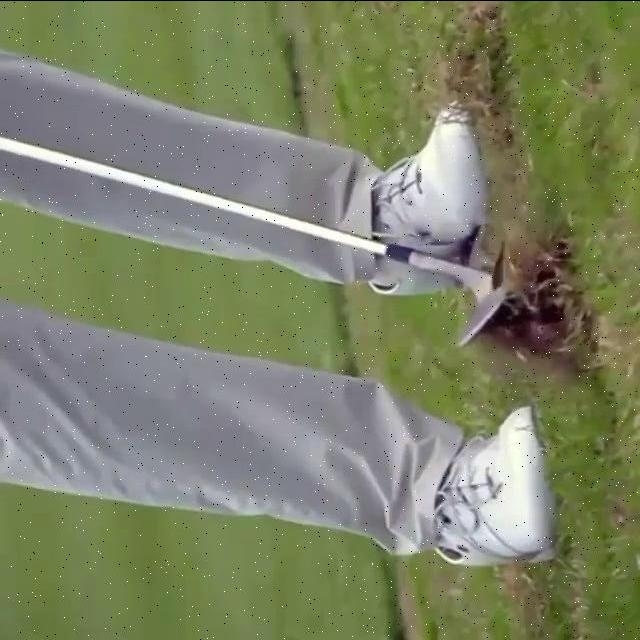golf club-handle: (0, 137, 508, 349)
golf club-head: (456, 282, 505, 350)
